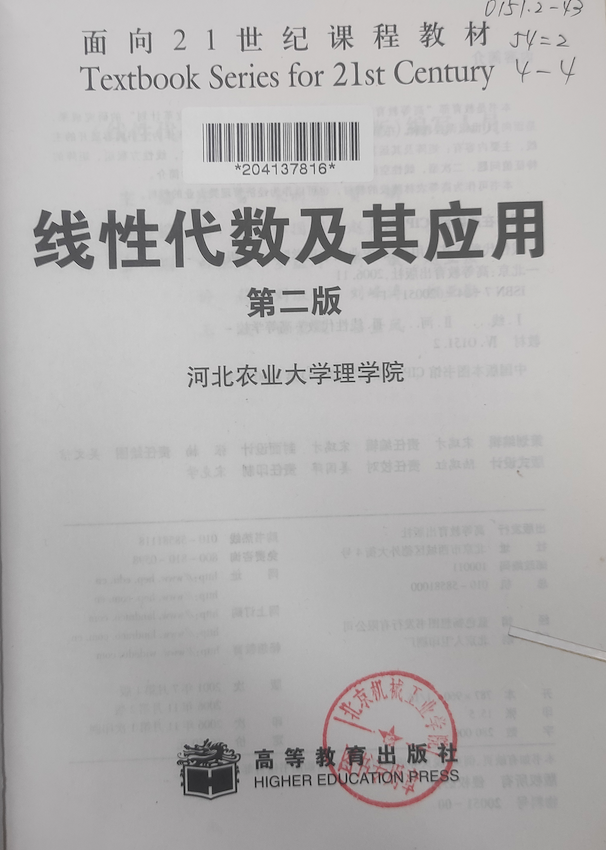Text_area: (33, 179, 566, 407), (66, 2, 581, 192), (178, 674, 481, 825)
